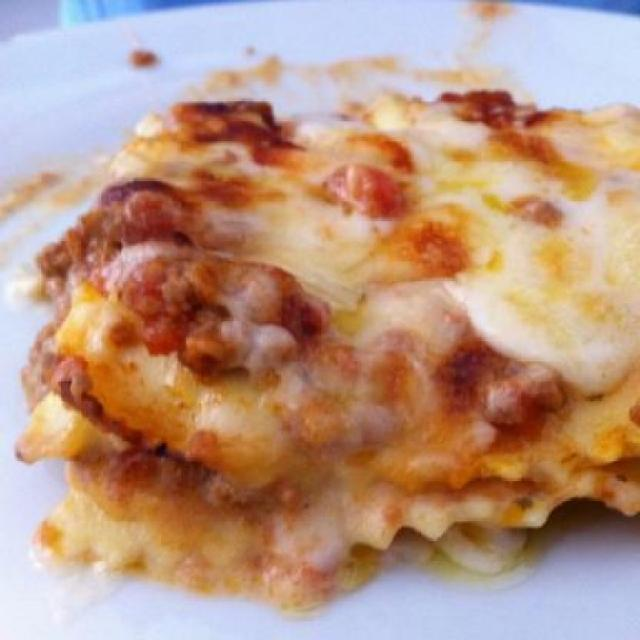Lasagna: (63, 85, 626, 564)
